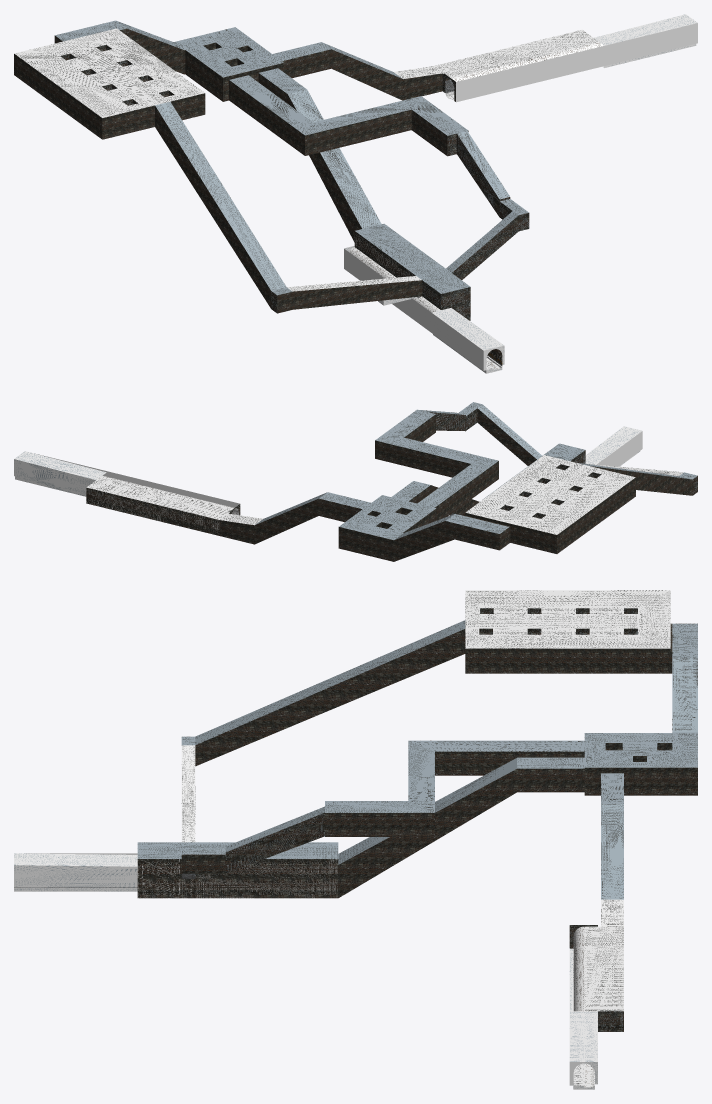
The model's file is Metro2.fbx.
3 renders of one model, top to bottom at view 1: azimuth 30°, elevation 25°; view 2: azimuth 150°, elevation 25°; view 3: azimuth 270°, elevation 25°, orthographic. The views are drawn at different scales.
Visible parts, largest first — view 1: Model; view 2: Model; view 3: Model.
Boxes of the visible parts, x1,y1,x2,y2 form: Model: (14,14,697,373); Model: (14,402,697,561); Model: (14,590,697,1089).
Size of the model in its own units: 124 by 29.6 by 99.12.
